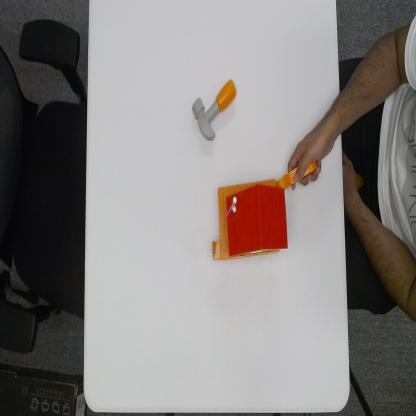Arm: (331, 38, 393, 132)
Hammer: (189, 75, 240, 143)
Hand: (287, 120, 332, 190)
House: (210, 179, 289, 262)
Screwdriver: (277, 158, 319, 197)
